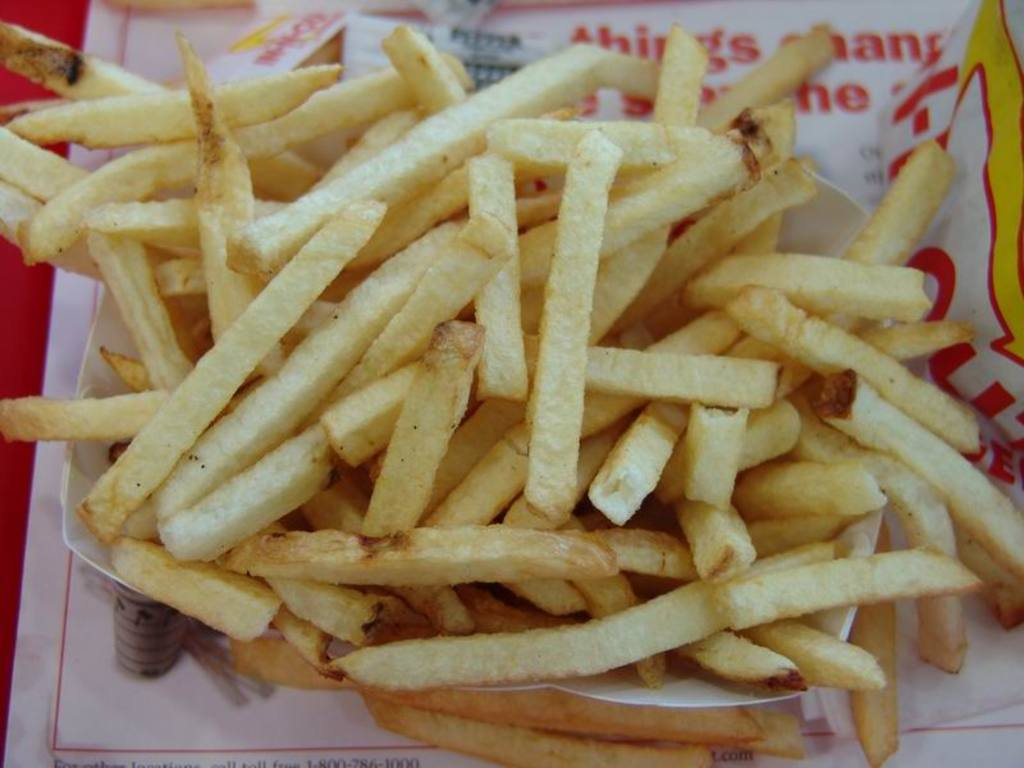French fries: (0, 8, 1022, 766)
